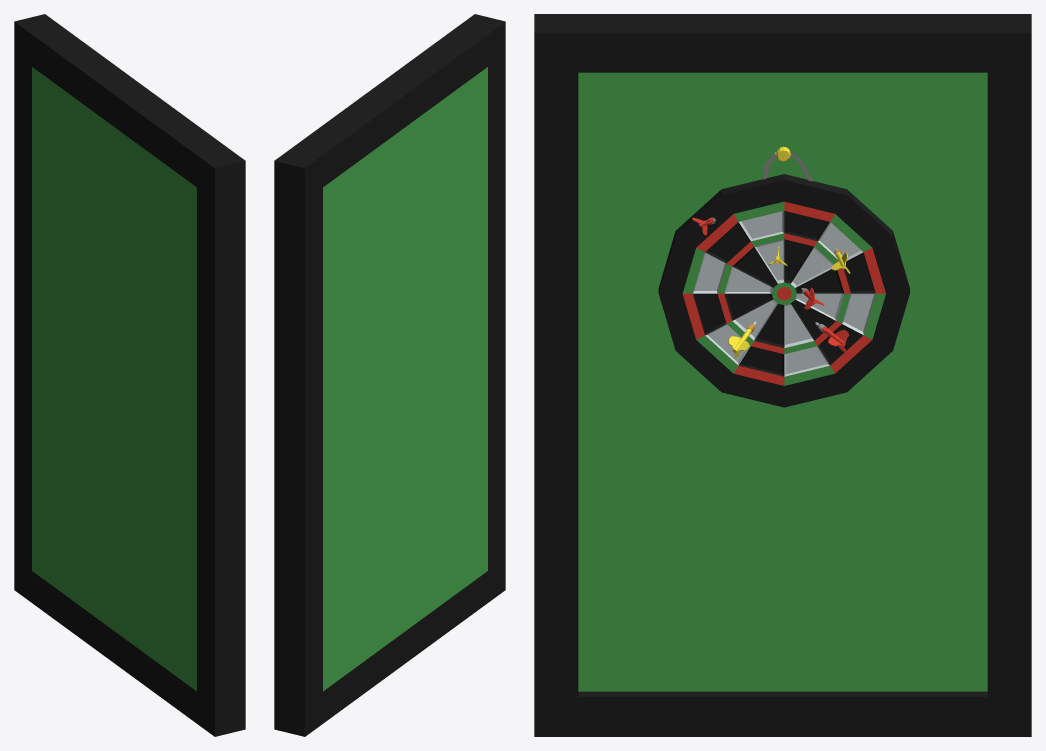
Rendered from Dart.glb.
The picture shows the model from 3 angles, left to right: view 1: azimuth 30°, elevation 25°; view 2: azimuth 150°, elevation 25°; view 3: azimuth 270°, elevation 25°; orthographic projection. The views are drawn at different scales.
Parts seen in each view (by area): view 1: Node; view 2: Node; view 3: Node.
Part boxes in pixels (left/top/right/bottom): Node: left=14, top=14, right=245, bottom=736; Node: left=274, top=14, right=505, bottom=736; Node: left=534, top=14, right=1031, bottom=736.
Bounding box in the file's own units: 0.3149 × 2.47 × 1.58.
